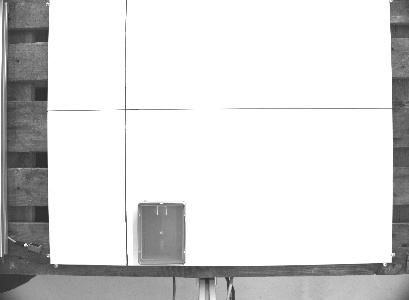klts: (133, 197, 187, 268)
